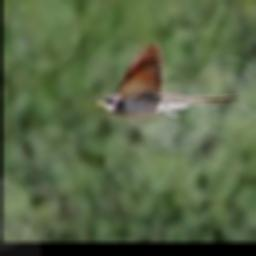Cuckoo: (94, 41, 237, 117)
